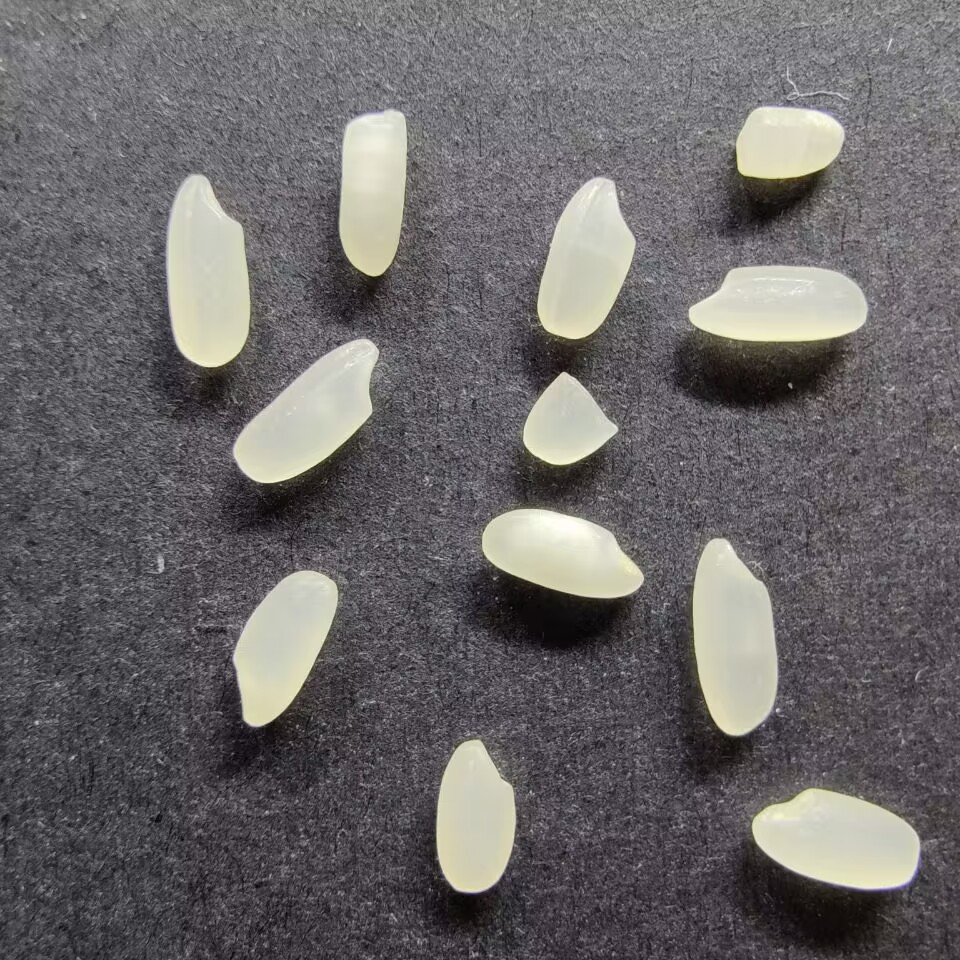broken: (520, 369, 618, 466), (733, 104, 846, 181)
rice: (230, 336, 378, 485), (689, 533, 781, 738), (163, 169, 252, 369), (750, 787, 922, 890), (231, 569, 340, 727), (534, 175, 637, 341), (479, 505, 646, 603), (686, 264, 871, 343), (433, 737, 518, 894), (337, 106, 409, 278)
